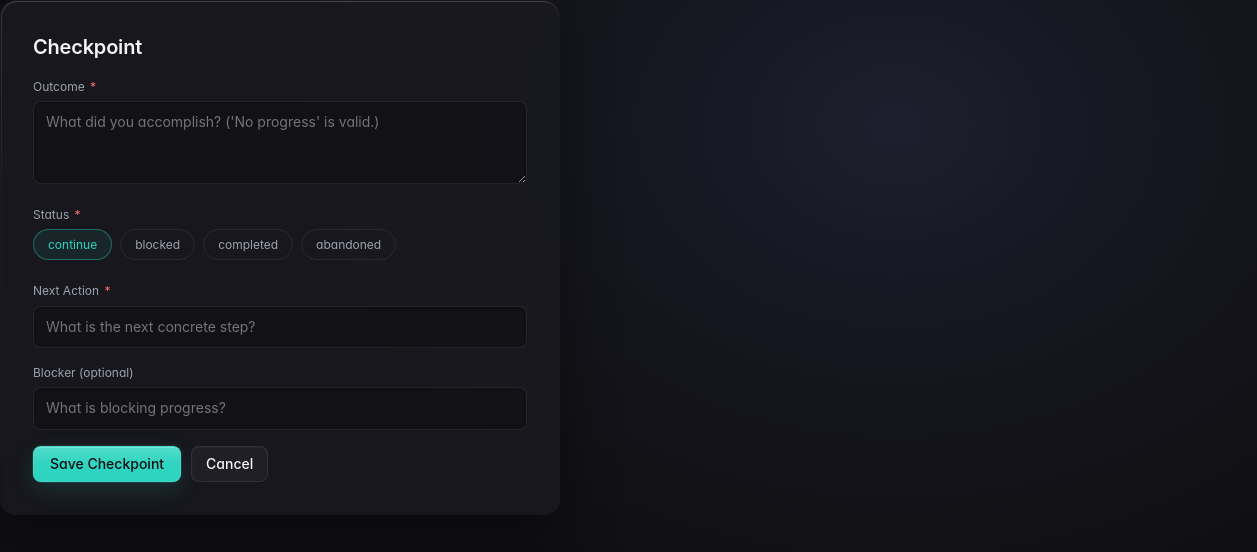
it: CheckpointView › shows error when next action missing for continue status
Type "Did some work" into the text box with id "cp-outcome" at point(280, 143), box [33,101,527,184]
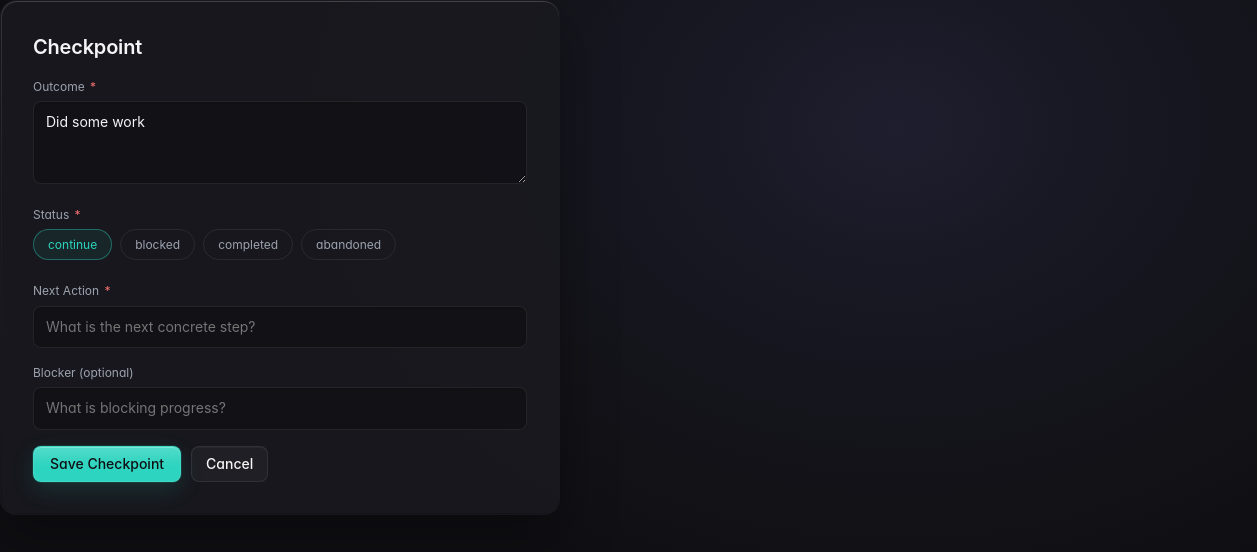
Click the button "Save Checkpoint" at point(107, 464), box [33,446,181,482]
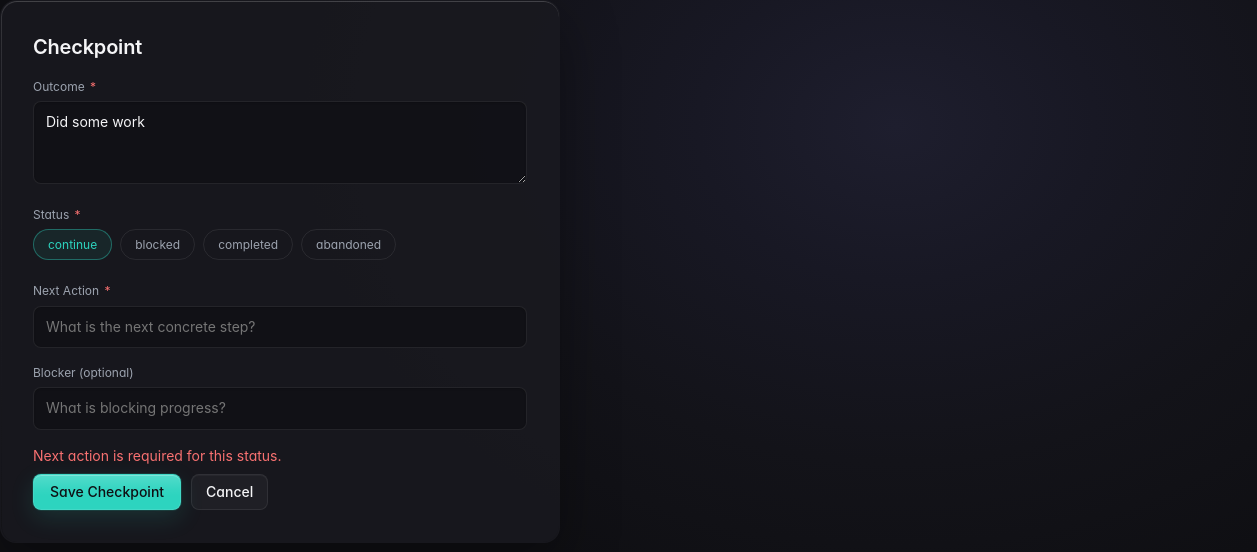
Result: the message "Next action is required for this status." is shown at [33,447,282,464]
